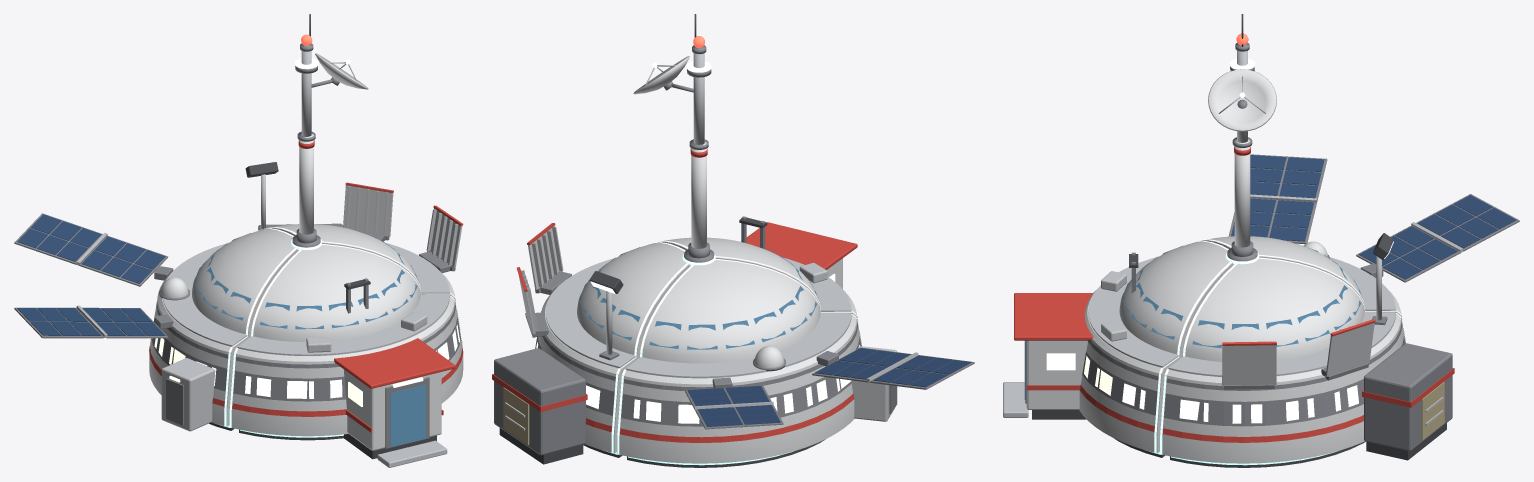
File: outpost_l1.glb
The picture shows the model from 3 angles, left to right: view 1: azimuth 30°, elevation 25°; view 2: azimuth 150°, elevation 25°; view 3: azimuth 270°, elevation 25°; orthographic projection. The views are drawn at different scales.
Visible parts, largest first — view 1: ModuleABody, ModuleBBody, ModuleCBody, SolarB0Body, SolarB0OuterBody, RadiatorC1Body, SolarB1Body, SolarB1OuterBody, MastBody, RadiatorC0Body, MastTopBody, DishBody (+1 smaller); view 2: ModuleBBody, ModuleCBody, ModuleABody, SolarB1Body, SolarB1OuterBody, MastBody, SolarB0OuterBody, SolarB0Body, RadiatorC0Body, MastTopBody, FloodBody, DishBody (+1 smaller); view 3: ModuleCBody, ModuleABody, ModuleBBody, DishBody, SolarB0OuterBody, SolarB0Body, SolarB1OuterBody, SolarB1Body, RadiatorC0Body, RadiatorC1Body, MastBody, FloodBody (+1 smaller).
Boxes of the visible parts, x1,y1,x2,y2 form: ModuleABody: (229,235,463,467); ModuleBBody: (149,228,298,431); ModuleCBody: (258,223,463,349); SolarB0Body: (76,233,168,286); SolarB0OuterBody: (14,213,102,264); RadiatorC1Body: (343,182,393,240); SolarB1Body: (76,305,168,338); SolarB1OuterBody: (14,307,103,338); MastBody: (296,131,316,243); RadiatorC0Body: (426,205,463,271); MastTopBody: (295,14,332,136); DishBody: (315,53,368,89); ModuleBBody: (617,259,897,467); ModuleCBody: (492,242,690,464); ModuleABody: (655,216,862,346); SolarB1Body: (812,347,918,382); SolarB1OuterBody: (870,355,974,389); MastBody: (688,139,709,258); SolarB0OuterBody: (695,405,783,429); SolarB0Body: (685,385,773,410); RadiatorC0Body: (527,223,563,293); MastTopBody: (671,14,711,144); FloodBody: (589,271,623,360); DishBody: (633,56,689,94); ModuleCBody: (1160,257,1454,467); ModuleABody: (1003,241,1259,457); ModuleBBody: (1196,236,1406,343); DishBody: (1208,69,1276,131); SolarB0OuterBody: (1416,194,1519,251); SolarB0Body: (1356,222,1463,282); SolarB1OuterBody: (1250,154,1327,200); SolarB1Body: (1228,194,1317,243); RadiatorC0Body: (1222,341,1276,389); RadiatorC1Body: (1325,319,1375,380); MastBody: (1231,137,1253,256); FloodBody: (1372,233,1393,325).
Bounding box in the file's own units: 13.95 × 11.88 × 14.25.
